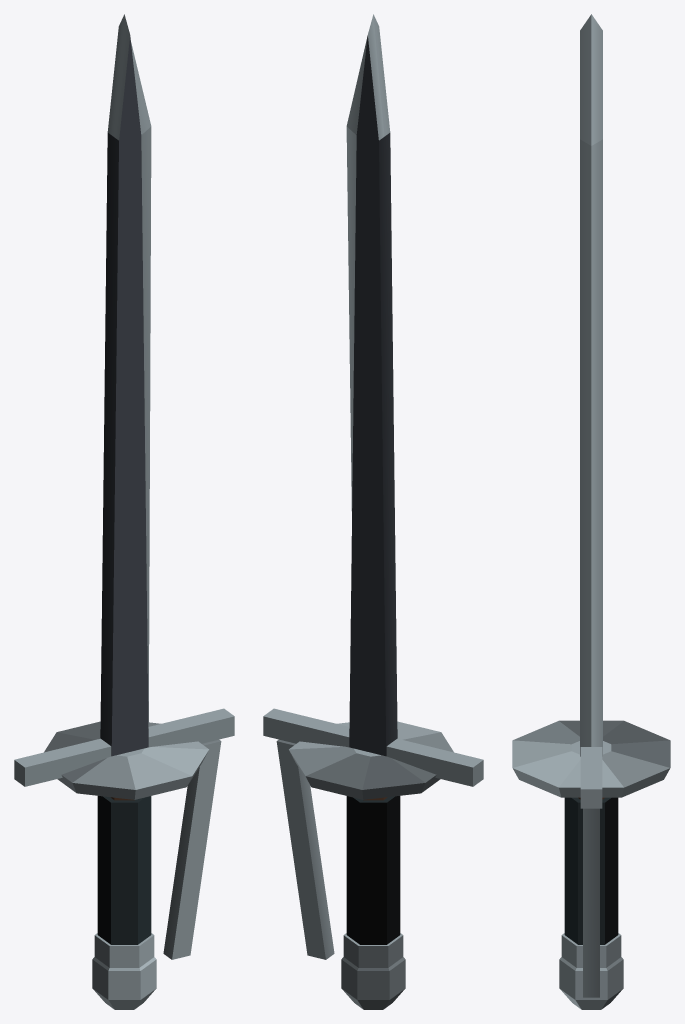
File: rogue_rapier_1.gltf
3 views of the same model, side by side, from view 1: azimuth 30°, elevation 25°; view 2: azimuth 150°, elevation 25°; view 3: azimuth 270°, elevation 25° (orthographic).
Visible parts, largest first — view 1: rogue_rapier_1; view 2: rogue_rapier_1; view 3: rogue_rapier_1.
Boxes of the visible parts, x1,y1,x2,y2 form: rogue_rapier_1: (14,14,234,1009); rogue_rapier_1: (263,14,483,1009); rogue_rapier_1: (512,14,670,1009).
Bounding box in the file's own units: 0.34 × 1.53 × 0.2217.
Materials: 1 (1 with a texture image).
